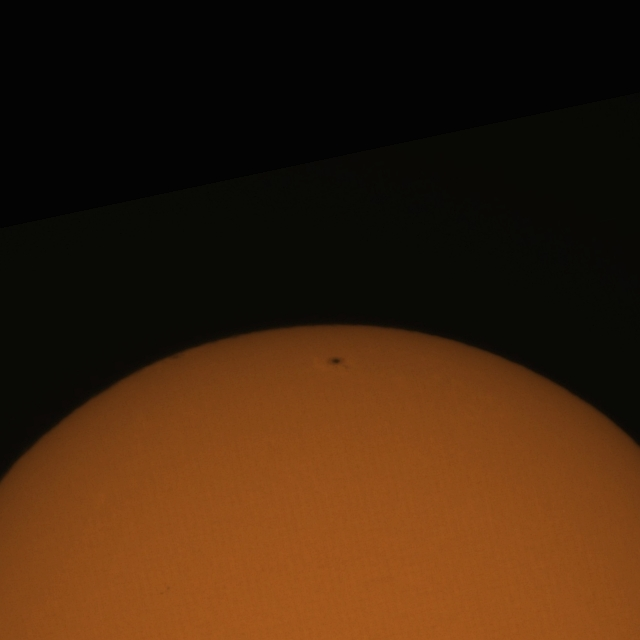sunspot: (326, 356, 352, 372)
